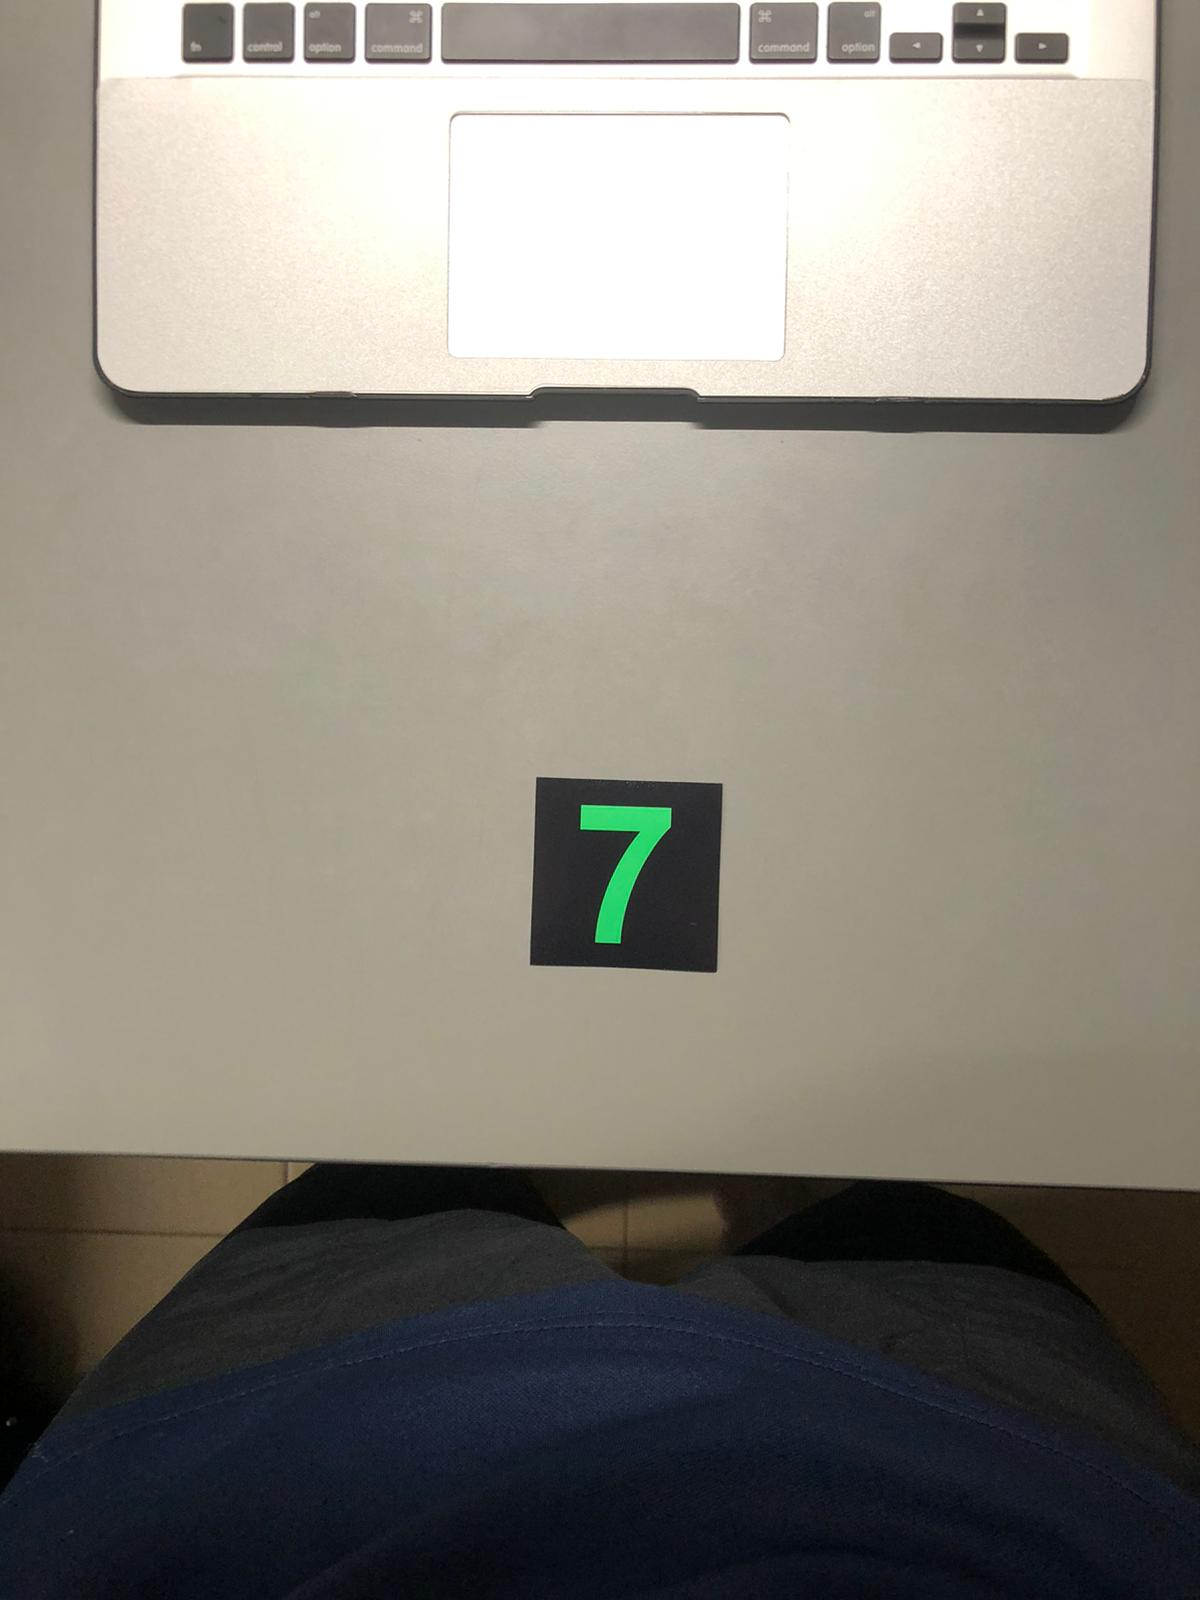Number 7: (539, 777, 715, 971)
